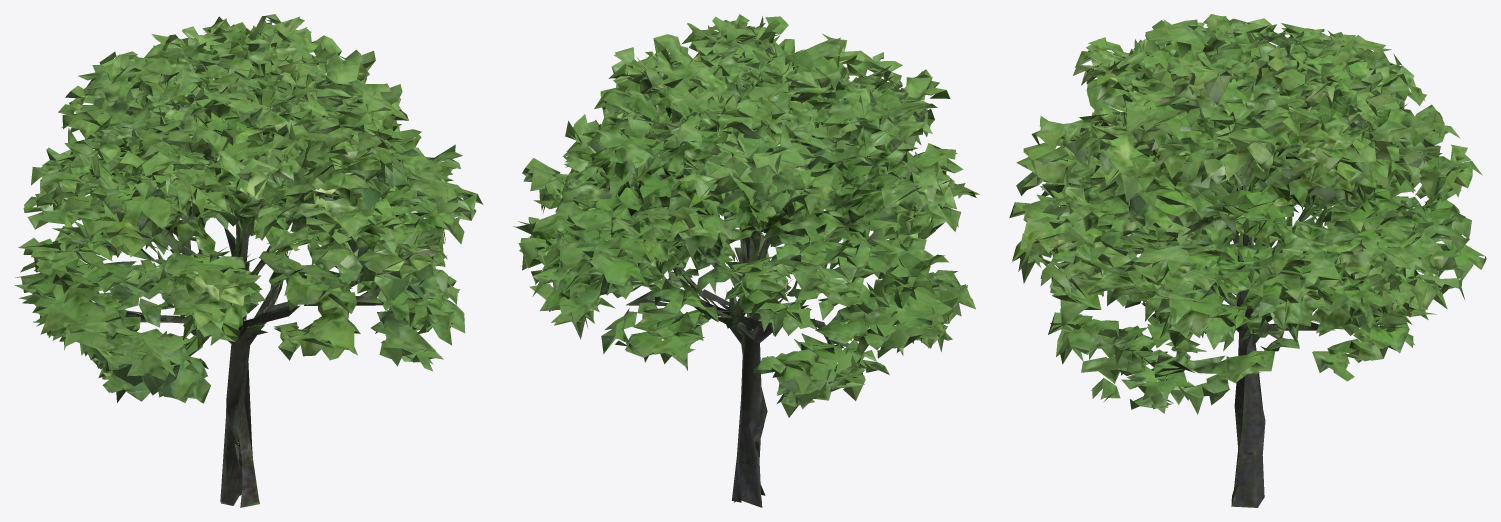
The model's file is canopy.glb.
3 views of the same model, side by side, from view 1: azimuth 30°, elevation 25°; view 2: azimuth 150°, elevation 25°; view 3: azimuth 270°, elevation 25° (orthographic). The views are drawn at different scales.
Visible parts, largest first — view 1: lod0; view 2: lod0; view 3: lod0.
Part boxes in pixels (x1,y1,x2,y2): lod0: (14, 14, 483, 507); lod0: (513, 14, 979, 507); lod0: (1009, 14, 1486, 507).
Size of what is drawn, in the model's own units: 7.58 by 8.01 by 7.44.
Materials: 1 (1 with a texture image).
